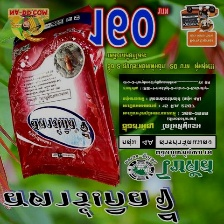insecticide: (6, 1, 123, 188)
